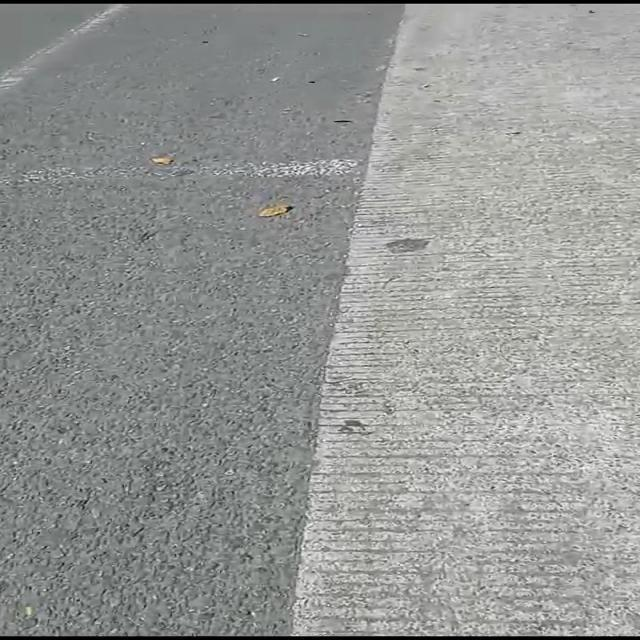Sambungan: (285, 0, 640, 633)
